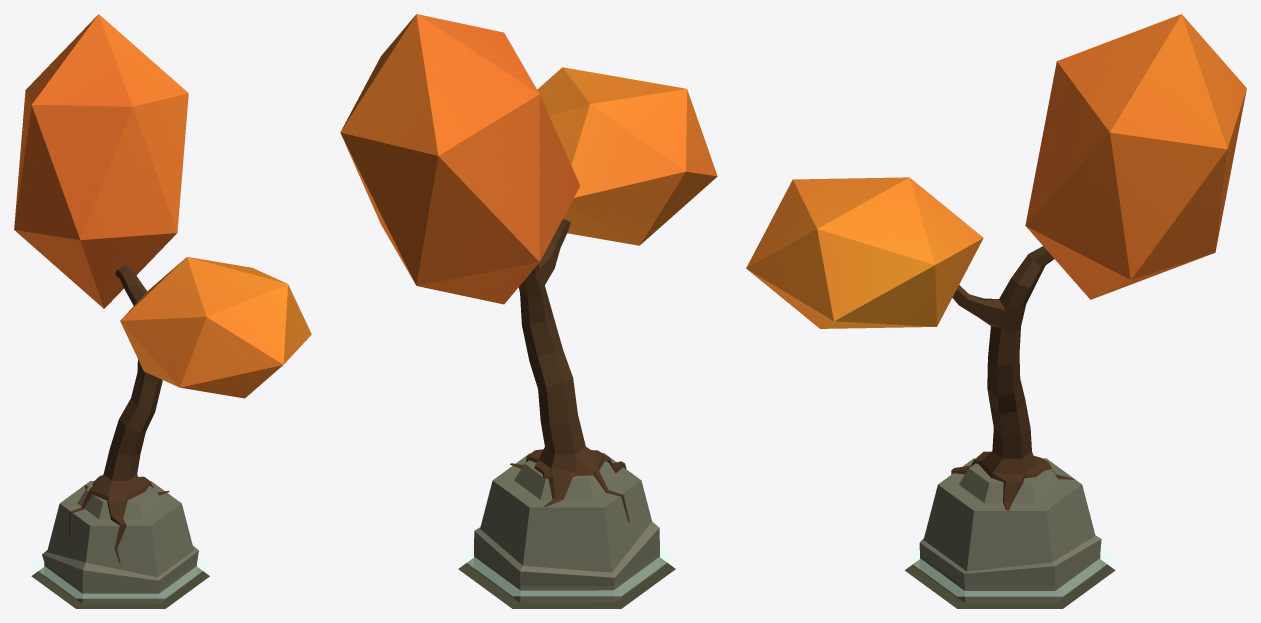
File: MainPoint1.fbx
3 renders of one model, left to right at view 1: azimuth 30°, elevation 25°; view 2: azimuth 150°, elevation 25°; view 3: azimuth 270°, elevation 25°, orthographic. The views are drawn at different scales.
Visible parts, largest first — view 1: mainPoint1; view 2: mainPoint1; view 3: mainPoint1.
Boxes of the visible parts, x1,y1,x2,y2 form: mainPoint1: [14, 14, 311, 608]; mainPoint1: [340, 14, 717, 608]; mainPoint1: [746, 14, 1246, 608].
Size of the model in its own units: 2.77 by 5.55 by 7.16.
